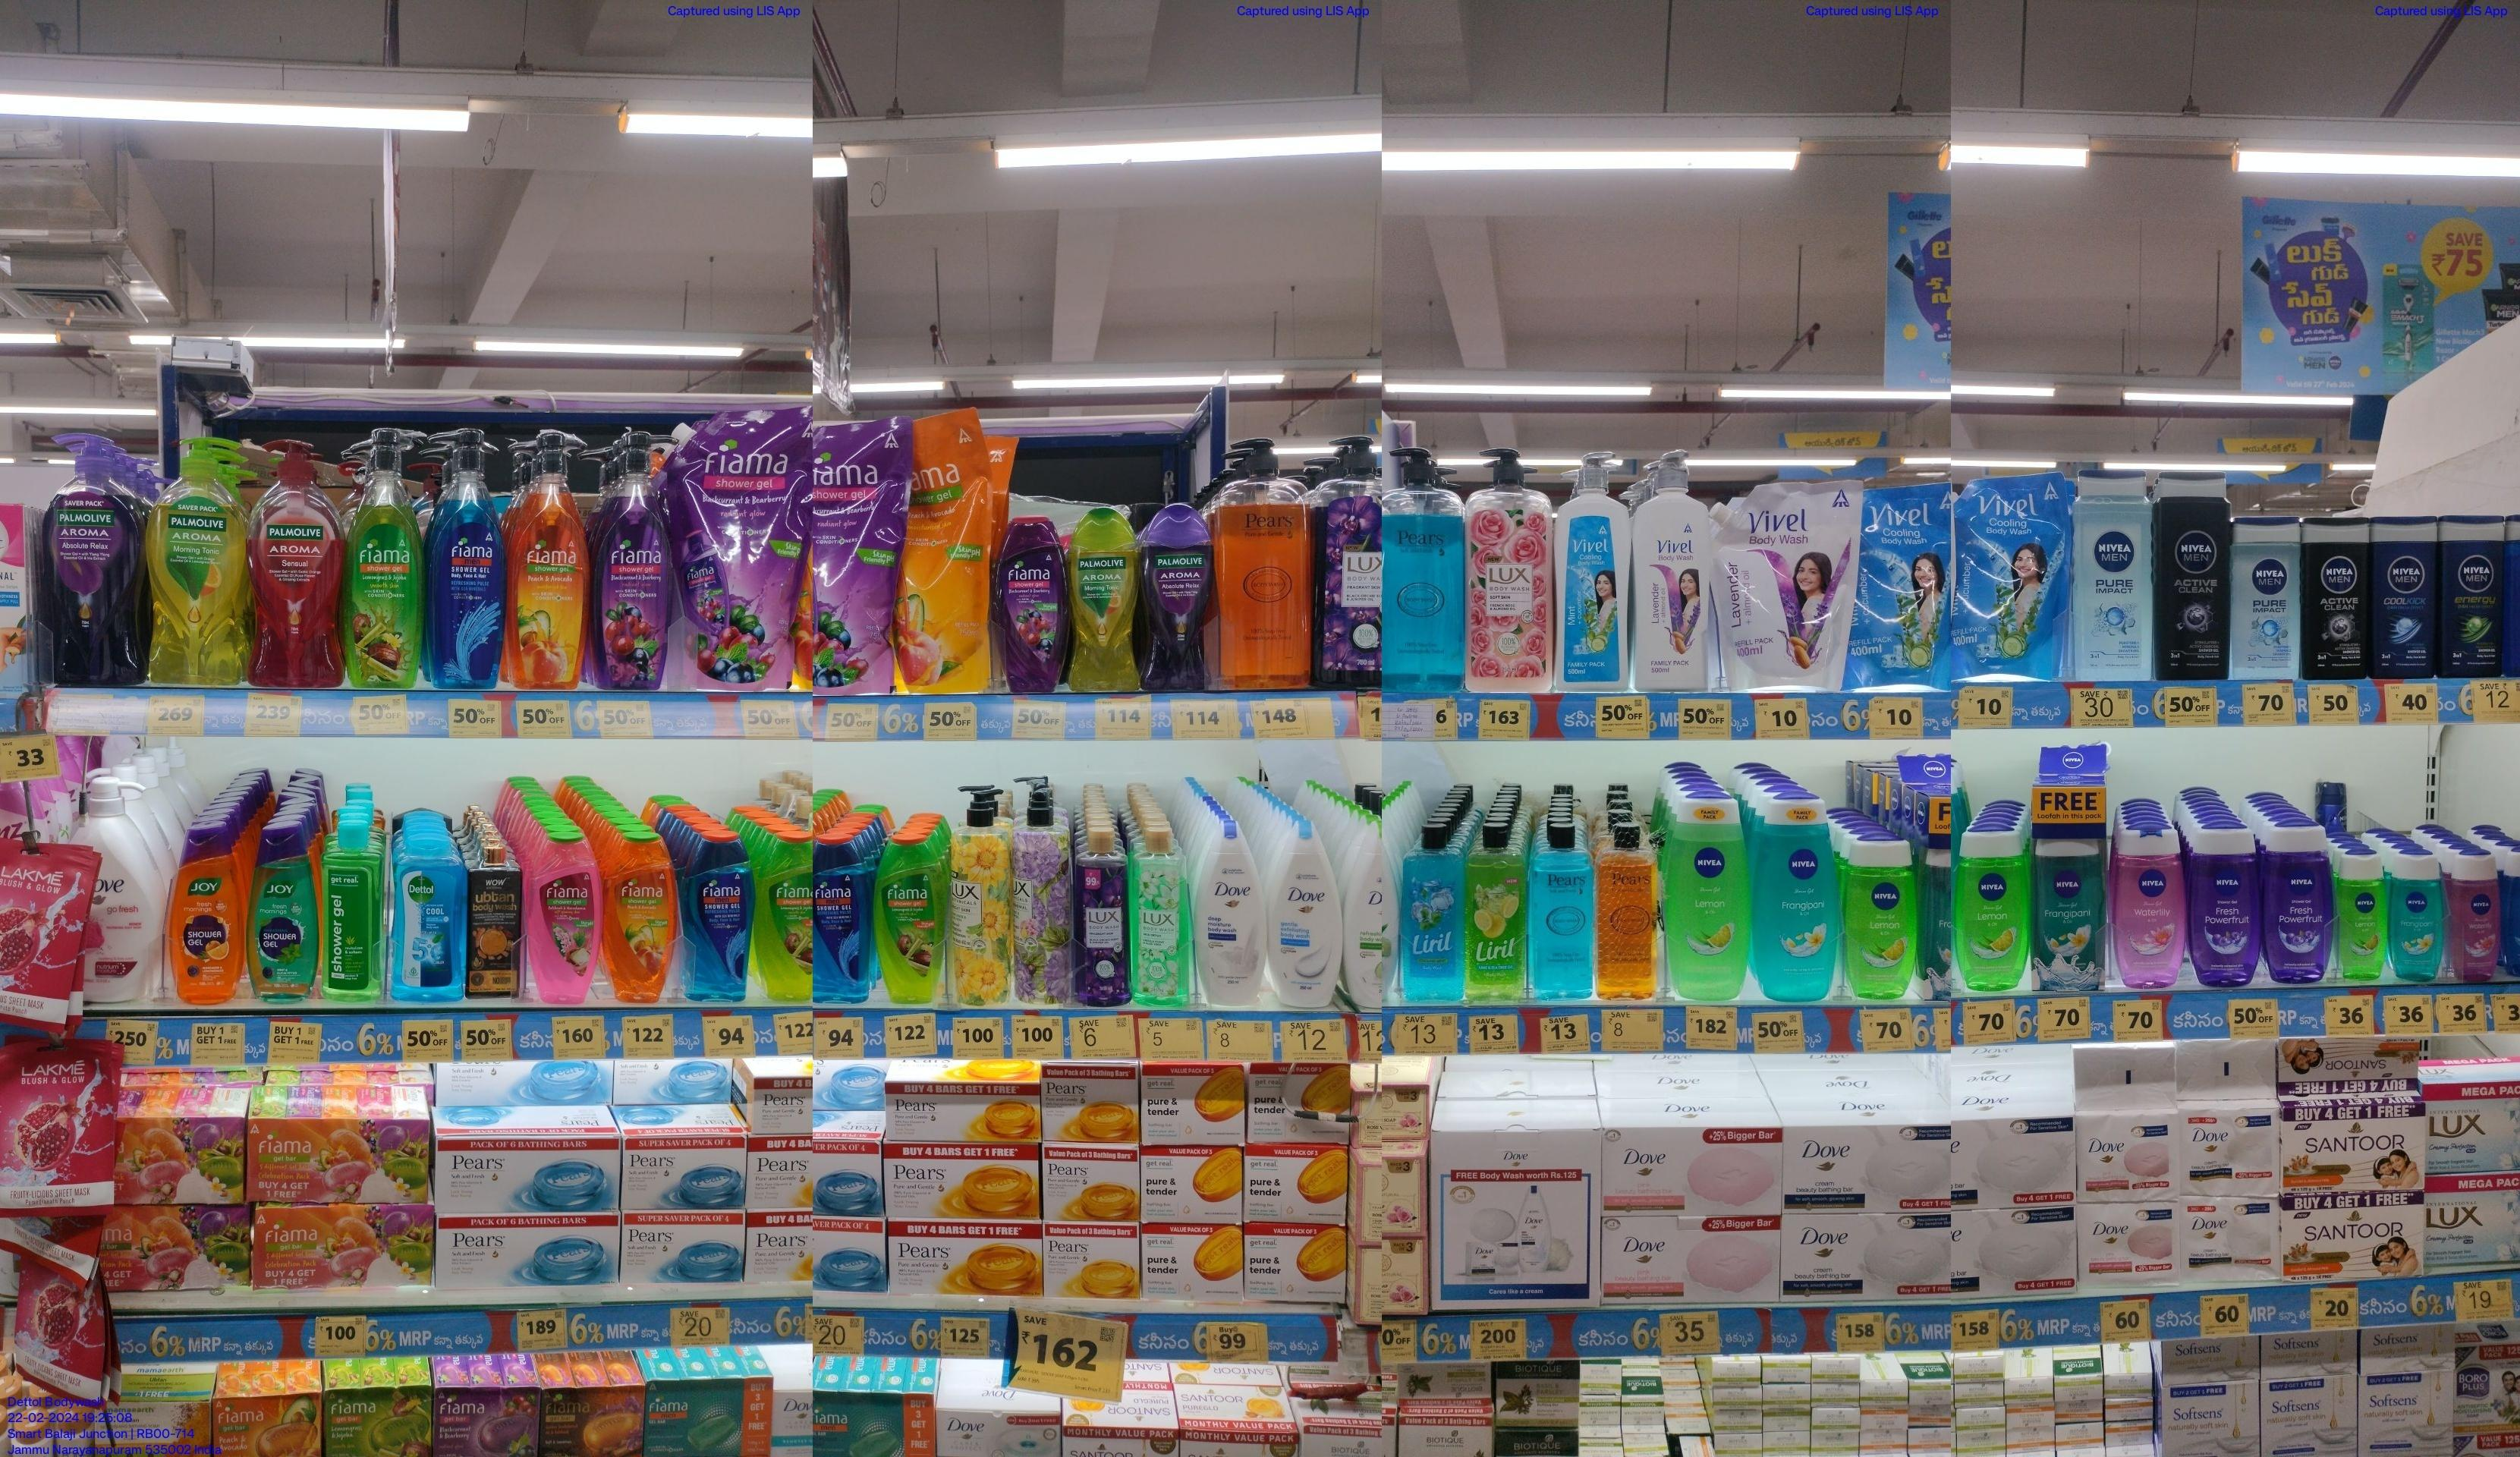Dettol_Bodywash_Cool: (387, 831, 470, 1004)
Dove_Deep_Moisture_Body_Wash_250ML: (1198, 824, 1264, 1011)
Dove_Gentle_Exfoliating_Body_Wash_250ML: (1270, 820, 1337, 1009)
Fiama_Shower_Gel_Lemongrass_and_Jojoba_250ML: (878, 836, 940, 1006), (760, 831, 812, 1003)
Fiama_Shower_Gel_Patchouli_and_Macadamia_250ML: (526, 827, 595, 1008)
Fiama_Shower_Gel_Peach_and_Avocado_250ML: (600, 831, 676, 1001)
Joy_Shower_Gel_Mandarin_and_Lemongrass_250ML: (165, 820, 245, 1004)
Joy_Shower_Gel_Mint_and_Eucalyptus_250ML: (248, 819, 321, 1004)
Liril_Cooling_Mint_Body_Wash_250ML: (1398, 829, 1460, 1006)
Liril_Lime_and_Tea_Tree_Oil_Body_Wash_250ML: (1460, 820, 1523, 1003)
Lux_Black_Orchid_Scent_and_Juniper_Oil_Body_Wash_245ML: (1075, 827, 1131, 1006)
Lux_Body_Wash_Skin_Detox_Freesia_Scent_and_Alove_Vera_245ML: (1133, 824, 1193, 1003)
Nivea_Shower_Gel_Frangipani_and_Oil_250ML: (1759, 796, 1837, 1003), (2034, 841, 2105, 990)
Nivea_Shower_Gel_Fresh_Powerfruit_250ML: (2192, 824, 2258, 985), (2267, 822, 2331, 983)
Nivea_Shower_Gel_Lemon_and_Oil_250ML: (1672, 796, 1748, 1001), (1956, 829, 2026, 992)
Nivea_Shower_Gel_Waterlily_and_Oil_250ML: (2109, 820, 2184, 985)
Palmolive_Aroma_Morning_Tonic_Shower_Gel_250ML: (1067, 506, 1141, 694)
Palmolive_Aroma_Relax_250ML: (1139, 500, 1204, 692)
Pears_Pure_Glycerin_and_Mint_Extracts_Body_Wash_250ML: (1531, 822, 1597, 1003)
